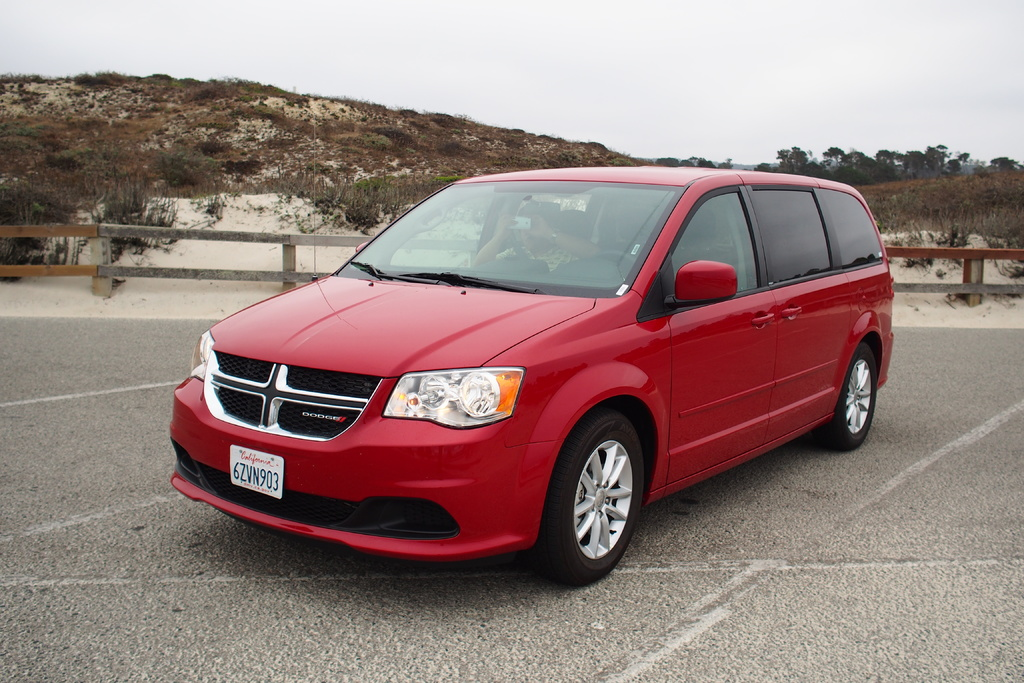Tree: (654, 144, 1024, 185)
